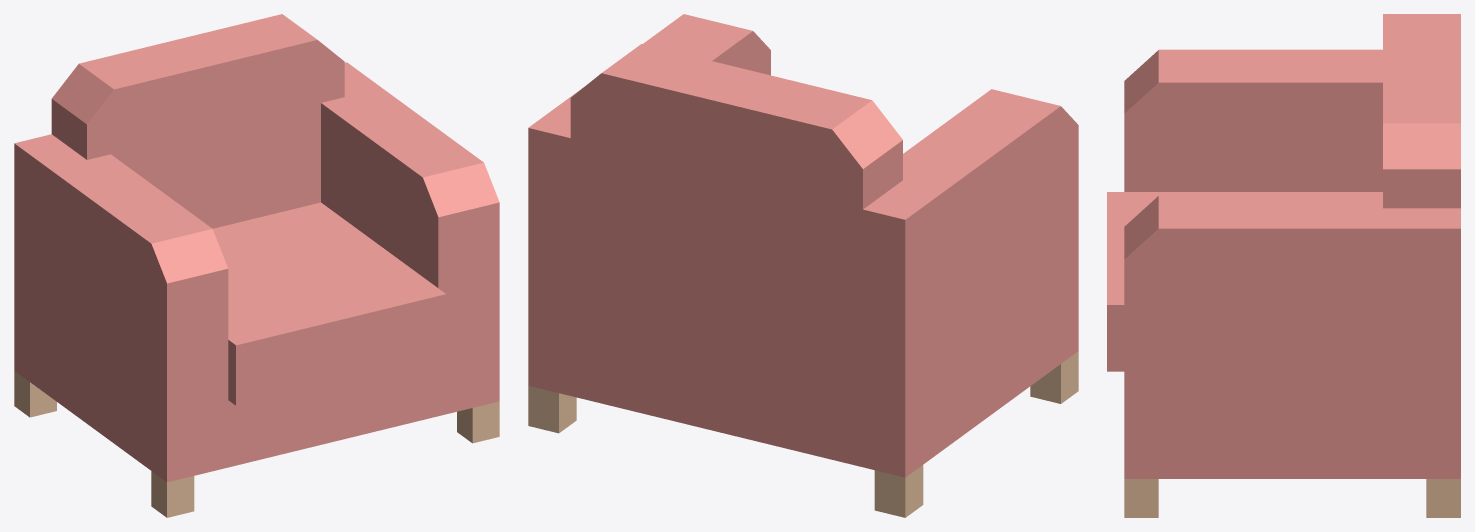
File: loungeChair.glb
3 renders of one model, left to right at view 1: azimuth 30°, elevation 25°; view 2: azimuth 150°, elevation 25°; view 3: azimuth 270°, elevation 25°, orthographic. The views are drawn at different scales.
Visible parts, largest first — view 1: loungeChair(Clone); view 2: loungeChair(Clone); view 3: loungeChair(Clone).
Part boxes in pixels (x1,y1,x2,y2): loungeChair(Clone): (14, 14, 499, 517); loungeChair(Clone): (528, 14, 1078, 517); loungeChair(Clone): (1107, 14, 1460, 517).
Bounding box in the file's own units: 0.49 × 0.46 × 0.41.
